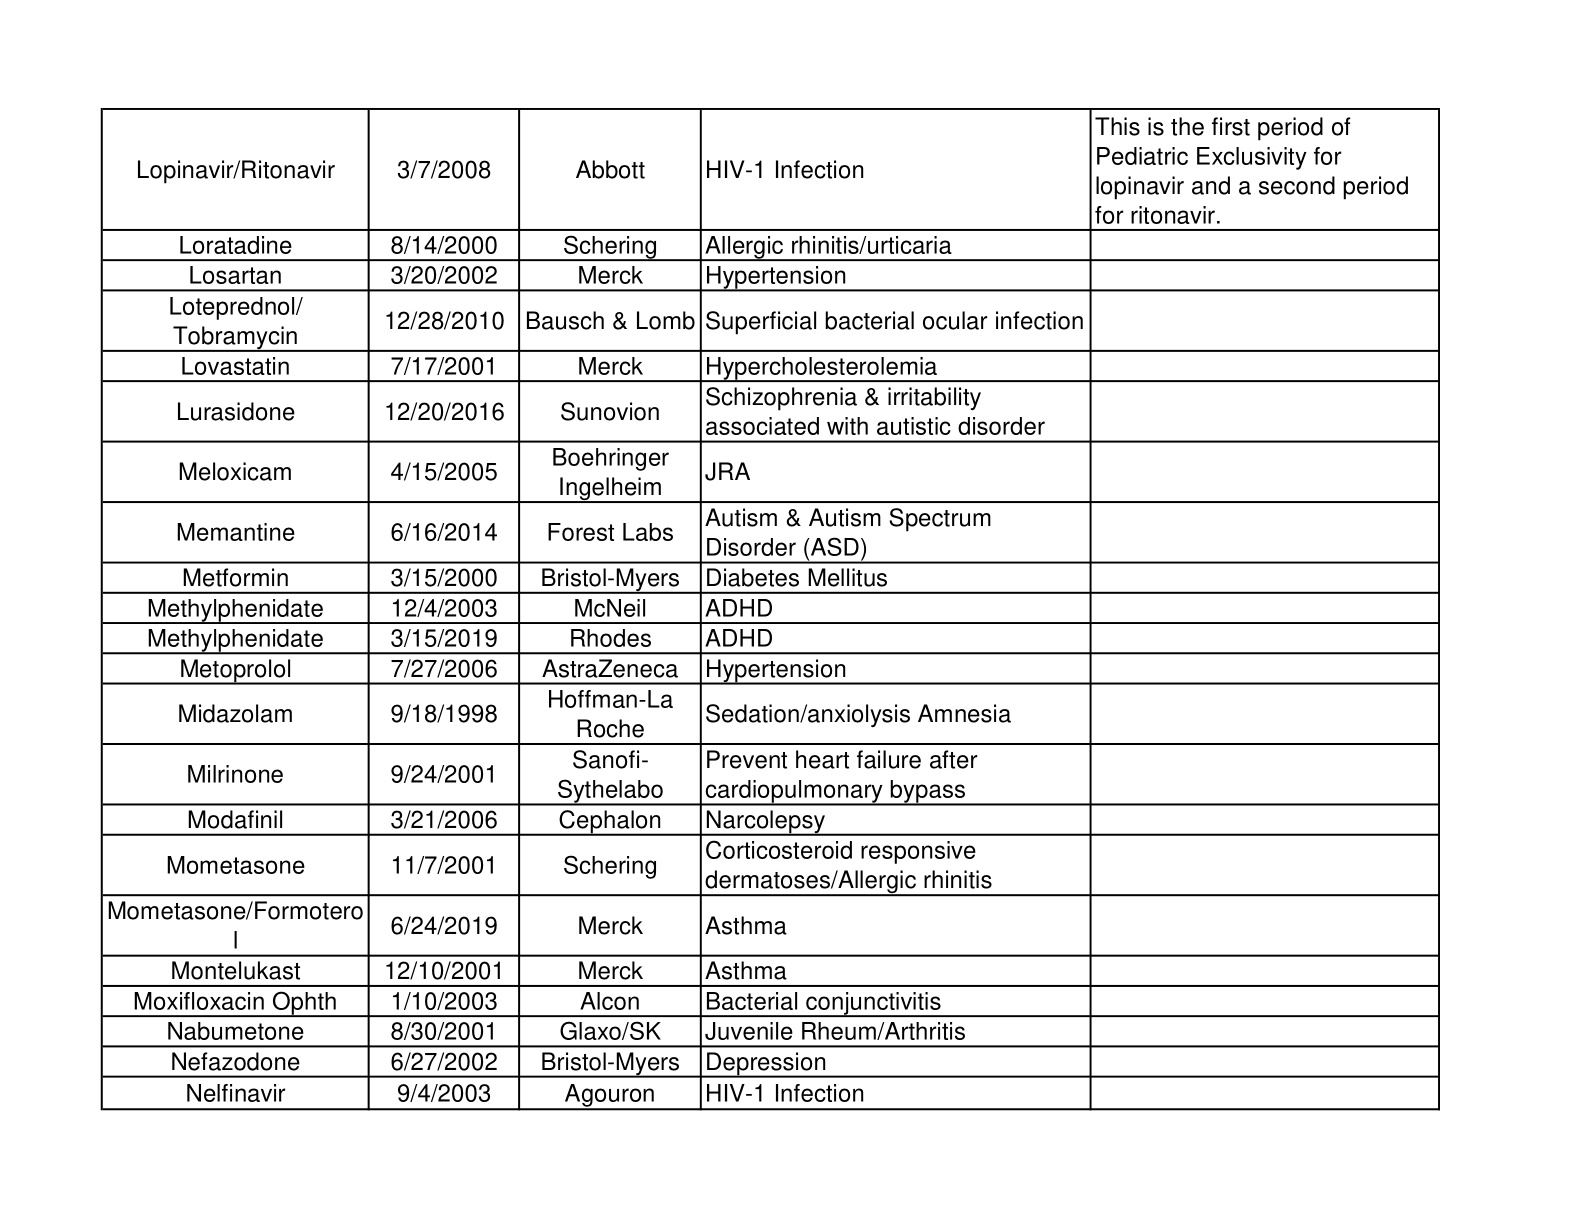full_lined: (99, 107, 1441, 1111)
